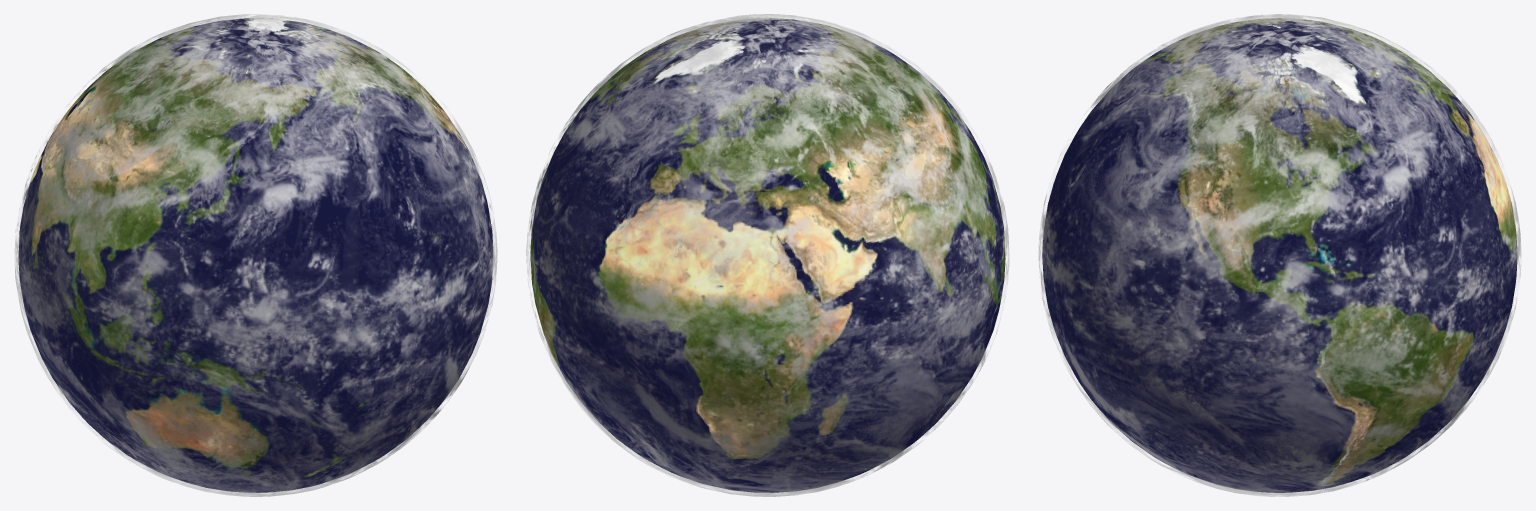
The model's file is earth.glb.
The picture shows the model from 3 angles, left to right: view 1: azimuth 30°, elevation 25°; view 2: azimuth 150°, elevation 25°; view 3: azimuth 270°, elevation 25°; orthographic projection.
Parts seen in each view (by area): view 1: Sphere, Sphere.001; view 2: Sphere, Sphere.001; view 3: Sphere, Sphere.001.
Part boxes in pixels (x1=…): Sphere: x1=18, y1=18, x2=493, y2=492; Sphere.001: x1=14, y1=14, x2=497, y2=496; Sphere: x1=530, y1=18, x2=1005, y2=492; Sphere.001: x1=526, y1=14, x2=1009, y2=496; Sphere: x1=1042, y1=18, x2=1517, y2=492; Sphere.001: x1=1038, y1=14, x2=1521, y2=496.
Size of the model in its own units: 2.03 by 2.03 by 2.03.
2 materials, 2 textured.
